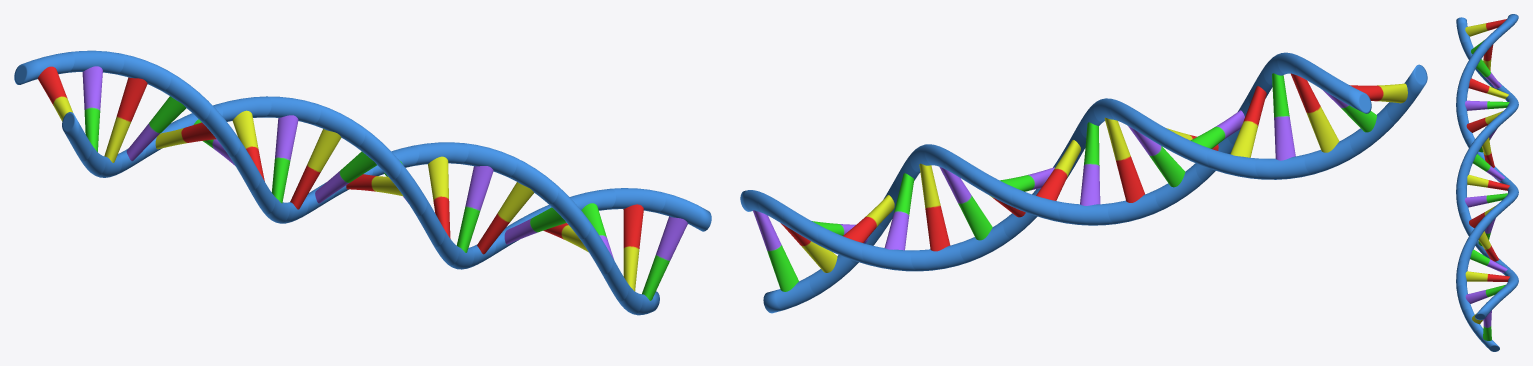
Rendered from dna.glb.
The picture shows the model from 3 angles, left to right: view 1: azimuth 30°, elevation 25°; view 2: azimuth 150°, elevation 25°; view 3: azimuth 270°, elevation 25°; orthographic projection. The views are drawn at different scales.
Parts seen in each view (by area): view 1: DNA; view 2: DNA; view 3: DNA.
Boxes of the visible parts, x1,y1,x2,y2 form: DNA: (14, 50, 711, 315); DNA: (740, 52, 1427, 313); DNA: (1456, 14, 1518, 351).
Size of the model in its own units: 3772 by 2103 by 619.
1 material, 1 textured.
